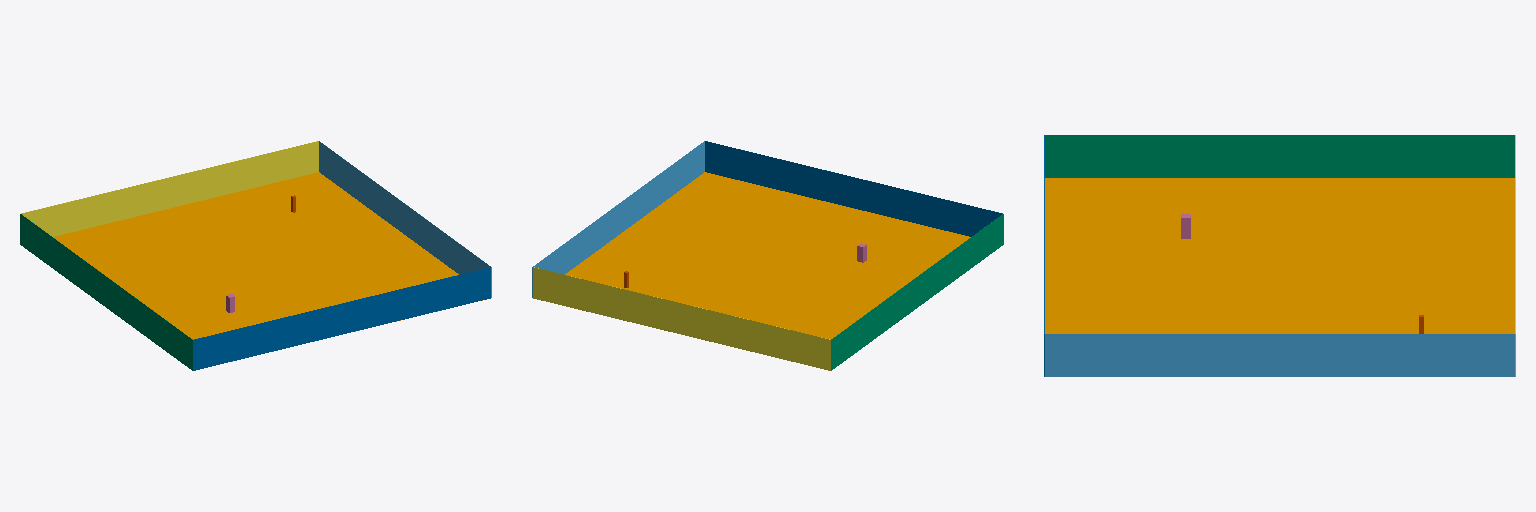
The robot description file, URDF, robot "world":
<?xml version="1.0"?>
<robot name="world">
    <link name="base_link">
        <visual>
            <origin xyz="0 0 0" rpy="0 0 0"/>
            <geometry>
                <!--<mesh filename="package://blind_test/model/meshes/plate.STL"/>-->
                <box size="10 10 0.005"/>
            </geometry>
        </visual>

        <collision>
            <geometry>
                <box size="10 10 0.005"/>
            </geometry>
        </collision>
    </link>

    <link name="wall_link">
        <visual>
            <origin xyz="0 0 0" rpy="0 0 0"/>
            <geometry>
                <!--<mesh filename="package://blind_test/model/meshes/plate.STL"/>-->
                <box size="0.005 10 1"/>
            </geometry>
        </visual>

        <collision>
            <geometry>
                <box size="0.005 10 1"/>
            </geometry>
        </collision>

        <inertial>
            <mass value="0.1"/>
            <inertia ixx="0.000704166" ixy="0.0" ixz="0.0" iyy="0.000141041" iyz="0" izz="0.00056354167"/>
        </inertial>
    </link>

    <joint name="wall_joint" type="fixed">
        <origin xyz="5 0 0.5" rpy="0 0 0"/>
        <parent link="base_link"/>
        <child link="wall_link"/>
    </joint>

    <link name="wall_1_link">
        <visual>
            <origin xyz="0 0 0" rpy="0 0 0"/>
            <geometry>
                <!--<mesh filename="package://blind_test/model/meshes/plate.STL"/>-->
                <box size="0.005 10 1"/>
            </geometry>
        </visual>

        <collision>
            <geometry>
                <box size="0.005 10 1"/>
            </geometry>
        </collision>

        <inertial>
            <mass value="0.1"/>
            <inertia ixx="0.000704166" ixy="0.0" ixz="0.0" iyy="0.000141041" iyz="0" izz="0.00056354167"/>
        </inertial>
    </link>

    <joint name="wall_1_joint" type="fixed">
        <origin xyz="-5 0 0.5" rpy="0 0 0"/>
        <parent link="base_link"/>
        <child link="wall_1_link"/>
    </joint>

    <link name="wall_2_link">
        <visual>
            <origin xyz="0 0 0" rpy="0 0 0"/>
            <geometry>
                <!--<mesh filename="package://blind_test/model/meshes/plate.STL"/>-->
                <box size="0.005 10 1"/>
            </geometry>
        </visual>

        <collision>
            <geometry>
                <box size="0.005 10 1"/>
            </geometry>
        </collision>

        <inertial>
            <mass value="0.1"/>
            <inertia ixx="0.000704166" ixy="0.0" ixz="0.0" iyy="0.000141041" iyz="0" izz="0.00056354167"/>
        </inertial>
    </link>

    <joint name="wall_2_joint" type="fixed">
        <origin xyz="0 5 0.5" rpy="0 0 1.5708"/>
        <parent link="base_link"/>
        <child link="wall_2_link"/>
    </joint>

    <link name="wall_3_link">
        <visual>
            <origin xyz="0 0 0" rpy="0 0 0"/>
            <geometry>
                <!--<mesh filename="package://blind_test/model/meshes/plate.STL"/>-->
                <box size="0.005 10 1"/>
            </geometry>
        </visual>

        <collision>
            <geometry>
                <box size="0.005 10 1"/>
            </geometry>
        </collision>

        <inertial>
            <mass value="0.1"/>
            <inertia ixx="0.000704166" ixy="0.0" ixz="0.0" iyy="0.000141041" iyz="0" izz="0.00056354167"/>
        </inertial>
    </link>

    <joint name="wall_3_joint" type="fixed">
        <origin xyz="0 -5 0.5" rpy="0 0 1.5708"/>
        <parent link="base_link"/>
        <child link="wall_3_link"/>
    </joint>

    <link name="box_link">
        <visual>
            <origin xyz ="0 0 0" rpy="0 0 0"/>
            <geometry>
                <box size="0.1 0.1 0.5"/>
            </geometry>
        </visual>

        <collision>
            <geometry>
                <box size="0.1 0.1 0.5"/>
            </geometry>
        </collision>

    </link>

    <joint name = "box_joint" type = "fixed">
        <origin xyz = "3.0 3.0 0.25" rpy = "0 0 0"/>
        <parent link = "base_link"/>
        <child link = "box_link"/>
    </joint>

    <link name="box_2_link">
        <visual>
            <origin xyz ="0 0 0" rpy="0 0 0"/>
            <geometry>
                <box size="0.2 0.2 0.5"/>
            </geometry>
        </visual>

        <collision>
            <geometry>
                <box size="0.2 0.2 0.5"/>
            </geometry>
        </collision>

    </link>

    <joint name = "box_2_joint" type = "fixed">
        <origin xyz = "-2 -2 0.25" rpy = "0 0 0"/>
        <parent link = "base_link"/>
        <child link = "box_2_link"/>
    </joint>


    <gazebo>
    <plugin name="gazebo_ros_control" filename="libgazebo_ros_control.so">
        <robotNamespace>/world</robotNamespace>
    </plugin>
    </gazebo>

</robot>

--- Render facts (derived) ---
3 views of the same robot in one strip: view 1: azimuth 30°, elevation 25°; view 2: azimuth 150°, elevation 25°; view 3: azimuth 270°, elevation 25° (orthographic).
Robot: world — 7 links, 6 joints (6 fixed); root link base_link; default pose: all joints at 0.
Links seen in each view (by area): view 1: base_link, wall_3_link, wall_2_link, wall_1_link, wall_link; view 2: base_link, wall_2_link, wall_3_link, wall_1_link, wall_link; view 3: base_link, wall_link, wall_1_link.
Boxes of the visible links, x1=… form: base_link: x1=53, y1=172, x2=482, y2=361; wall_3_link: x1=193, y1=267, x2=490, y2=370; wall_2_link: x1=21, y1=141, x2=318, y2=236; wall_1_link: x1=20, y1=214, x2=192, y2=370; wall_link: x1=319, y1=141, x2=491, y2=297; base_link: x1=541, y1=172, x2=970, y2=361; wall_2_link: x1=533, y1=267, x2=830, y2=370; wall_3_link: x1=705, y1=141, x2=1002, y2=236; wall_1_link: x1=831, y1=214, x2=1003, y2=370; wall_link: x1=532, y1=141, x2=704, y2=297; base_link: x1=1045, y1=178, x2=1514, y2=333; wall_link: x1=1045, y1=334, x2=1514, y2=376; wall_1_link: x1=1045, y1=135, x2=1514, y2=177.
Bounding box of the posed robot: 10.01 × 10.01 × 1 m (x, y, z).
Geometry: primitives only (box / cylinder / sphere), no mesh files.